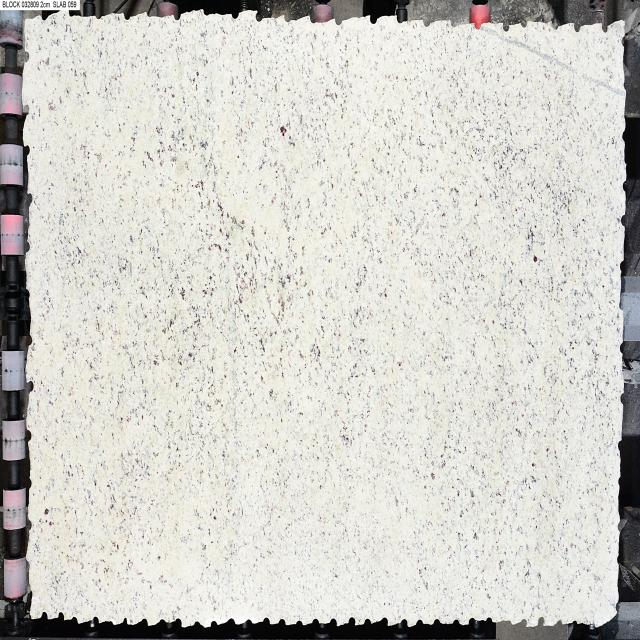chapa: (24, 14, 625, 625)
veio: (19, 100, 33, 119), (24, 374, 36, 395), (21, 50, 32, 66), (38, 608, 48, 624), (503, 19, 512, 35), (55, 609, 65, 623), (601, 18, 609, 35), (536, 613, 545, 627)
